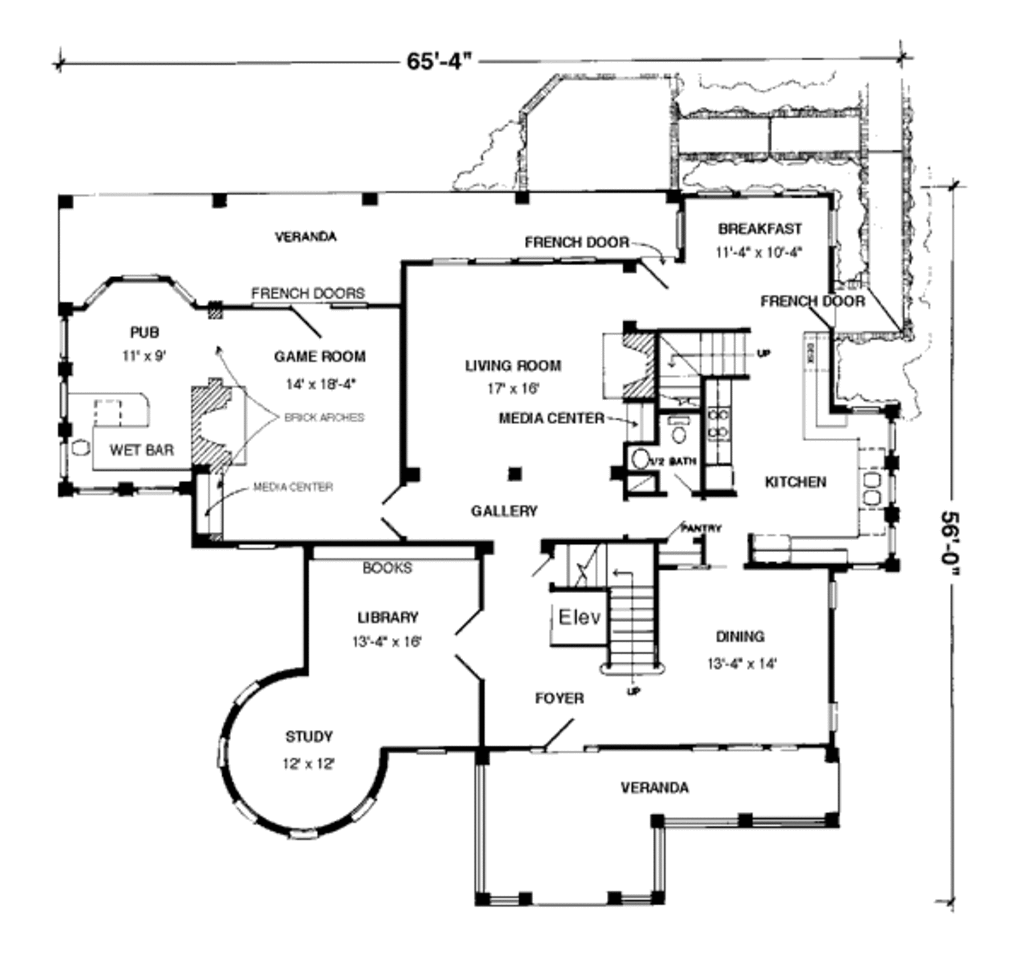door: (276, 300, 344, 352), (447, 605, 491, 684), (540, 712, 602, 763), (633, 250, 684, 297)
large_sink: (661, 417, 691, 449)
small_sink: (631, 445, 660, 471)
stairs: (546, 542, 675, 685), (660, 327, 766, 410)
twin_sink: (860, 458, 900, 513)
window: (688, 742, 815, 752)
